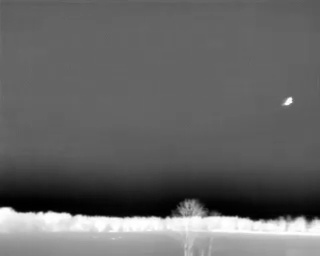BIRD: (279, 92, 298, 112)
